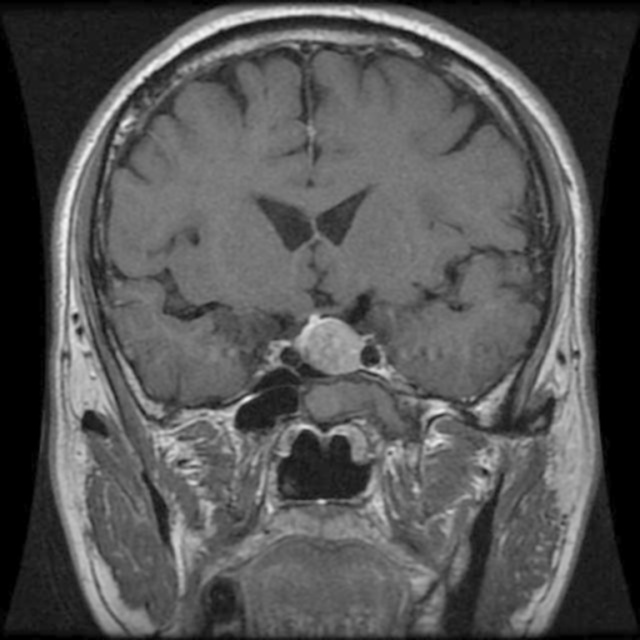no tumor: (292, 302, 380, 378)
